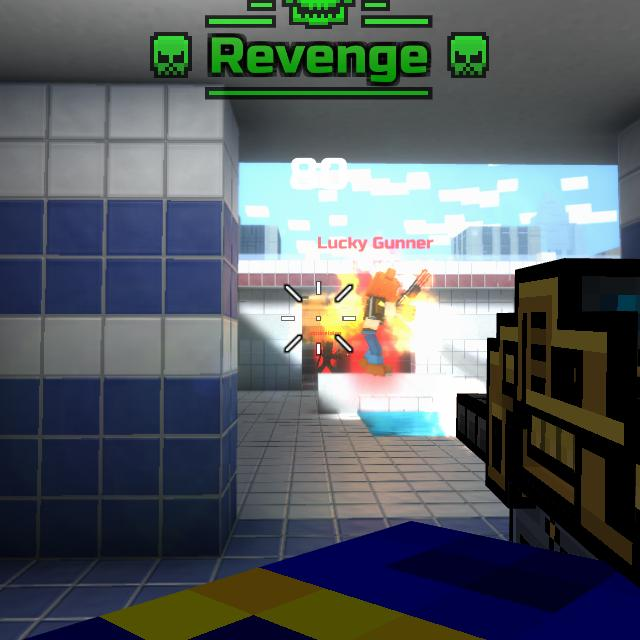Enemy: (355, 271, 416, 378), (316, 342, 342, 373)
